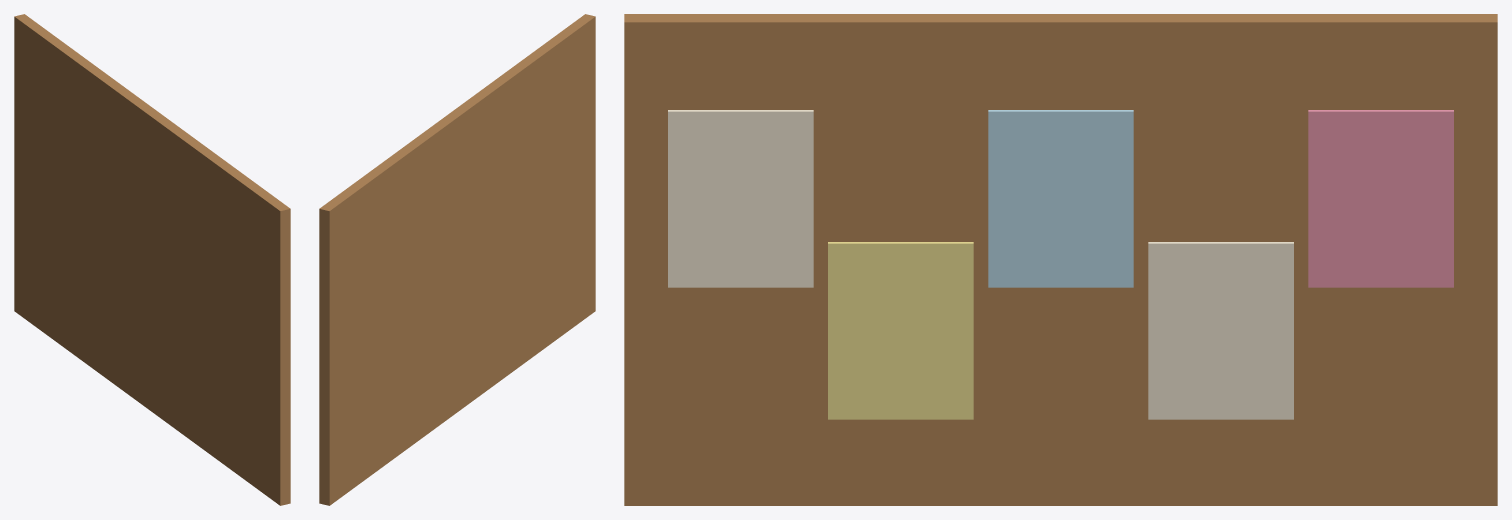
Rendered from town_bulletin.glb.
The picture shows the model from 3 angles, left to right: view 1: azimuth 30°, elevation 25°; view 2: azimuth 150°, elevation 25°; view 3: azimuth 270°, elevation 25°; orthographic projection. The views are drawn at different scales.
Visible parts, largest first — view 1: Box1; view 2: Box1; view 3: Box1, Box2, Box3, Box4, Box5, Box6.
Boxes of the visible parts, x1=… form: Box1: x1=14, y1=14, x2=290, y2=505; Box1: x1=319, y1=14, x2=595, y2=505; Box1: x1=624, y1=14, x2=1497, y2=505; Box2: x1=668, y1=110, x2=813, y2=287; Box3: x1=828, y1=242, x2=973, y2=419; Box4: x1=988, y1=110, x2=1133, y2=287; Box5: x1=1148, y1=242, x2=1293, y2=419; Box6: x1=1308, y1=110, x2=1453, y2=287.
Size of the model in its own units: 0.048 by 1.1 by 1.8.
